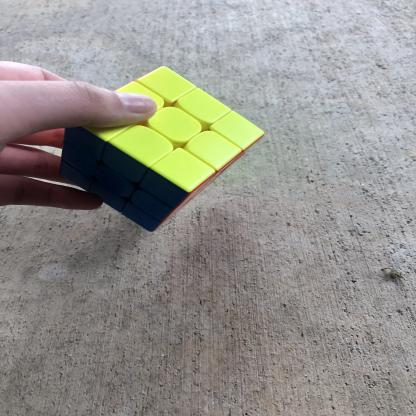SolvedCube: (53, 62, 272, 240)
